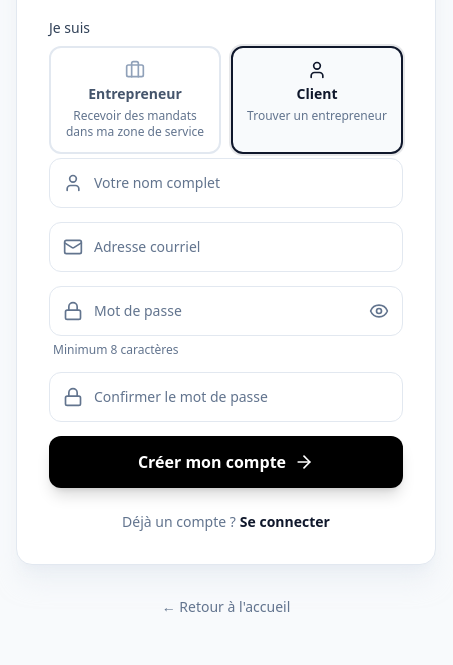
Scenario: Login Page › switching to login then back restores signup mode
(page scrolled)
Switch to login
Click the button "Se connecter" at (285, 522), box [240,512,330,532]
(page scrolled)
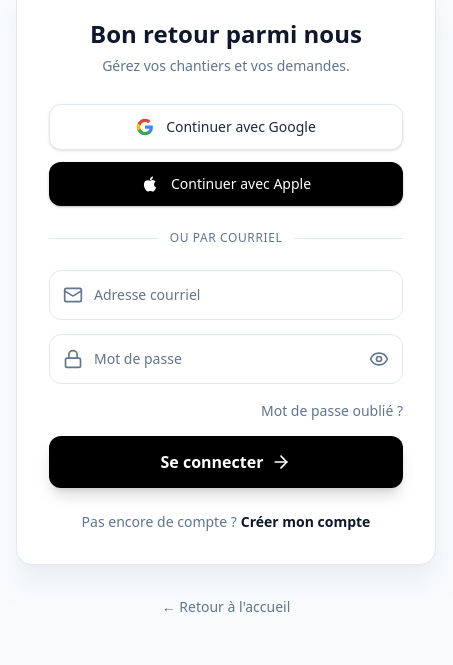
Now the heading "Bon retour parmi nous" is shown, box [90,17,362,50]
Switch back to signup
Click the button "Créer mon compte" at (306, 522), box [241,512,370,532]
(page scrolled)
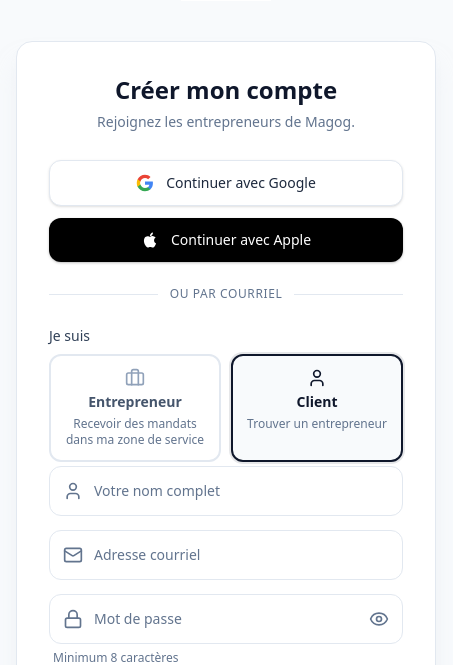
Now the heading "Créer mon compte" is shown, box [115,73,337,106]
